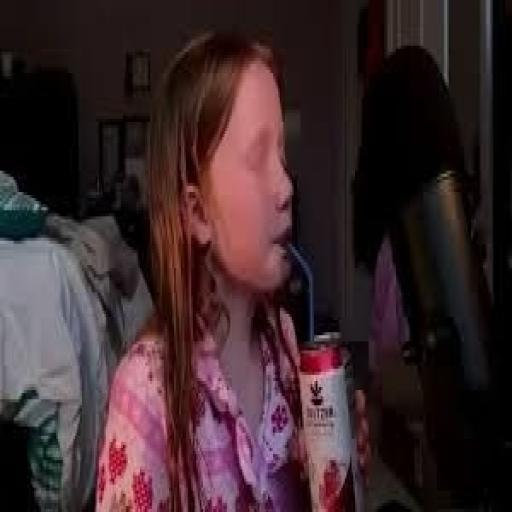drinking: (297, 332, 357, 509)
